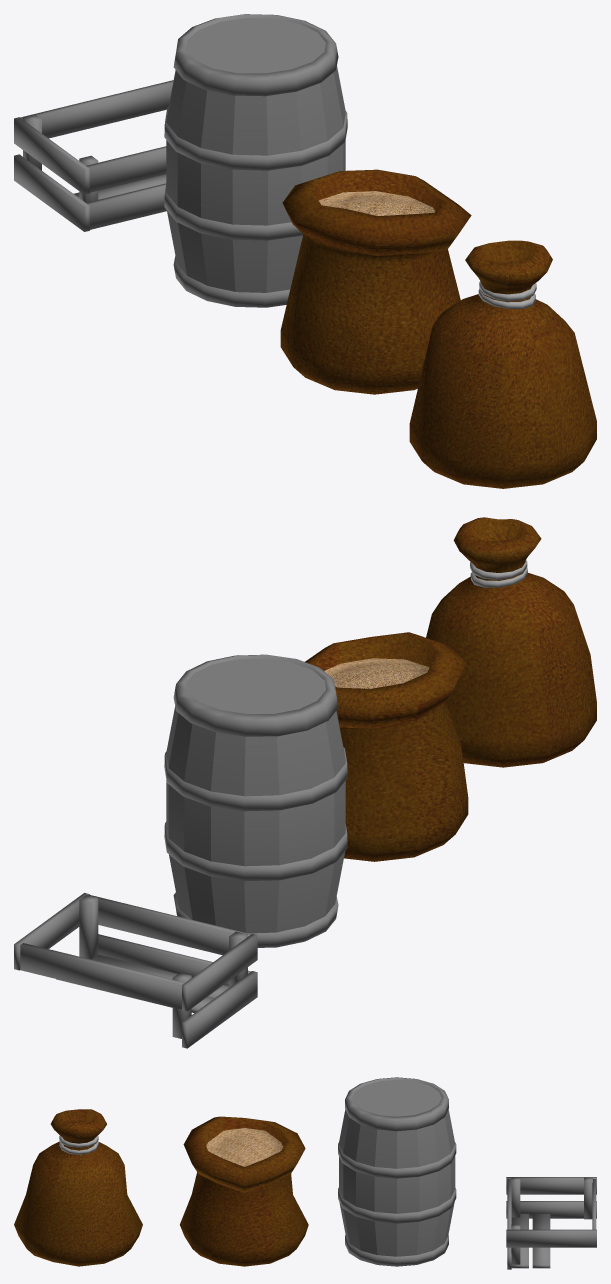
3 renders of one model, top to bottom at view 1: azimuth 30°, elevation 25°; view 2: azimuth 150°, elevation 25°; view 3: azimuth 270°, elevation 25°, orthographic. The views are drawn at different scales.
Size of the model in its own units: 0.6471 by 0.8228 by 2.93.
